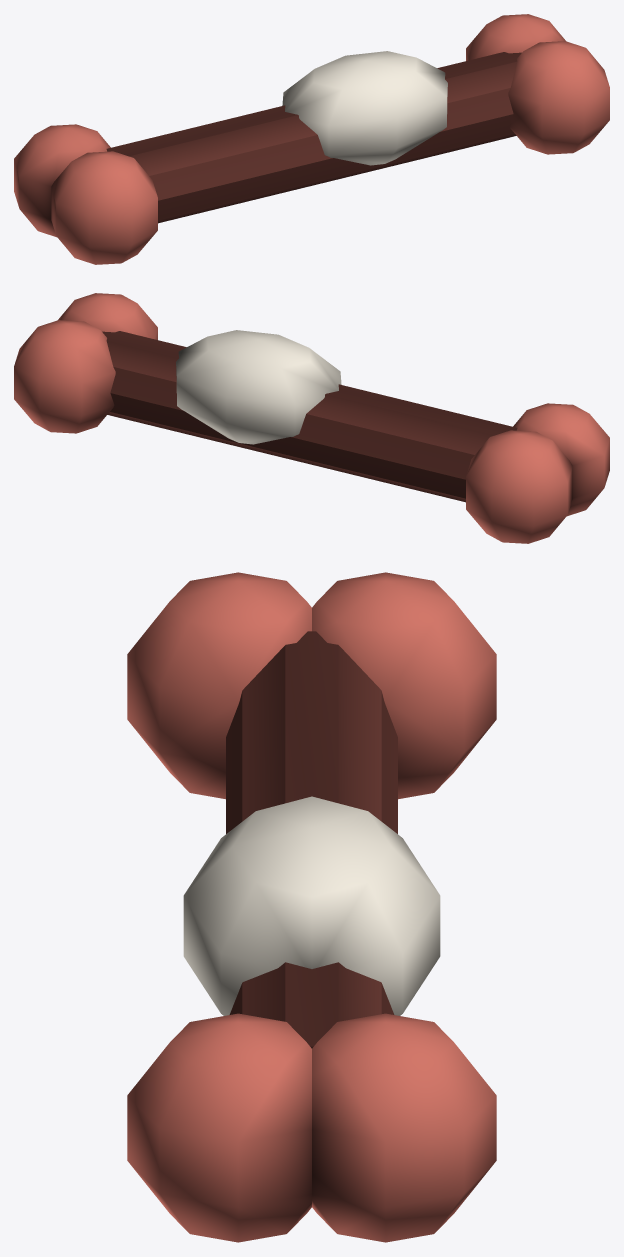
Rendered from meat_bone.glb.
The picture shows the model from 3 angles, top to bottom: view 1: azimuth 30°, elevation 25°; view 2: azimuth 150°, elevation 25°; view 3: azimuth 270°, elevation 25°; orthographic projection. The views are drawn at different scales.
Visible parts, largest first — view 1: PART; view 2: PART; view 3: PART.
Part boxes in pixels (x1=…): PART: x1=14, y1=14, x2=609, y2=264; PART: x1=14, y1=293, x2=609, y2=543; PART: x1=127, y1=572, x2=496, y2=1242.
Bounding box in the file's own units: 0.2061 × 0.0426 × 0.0601.
